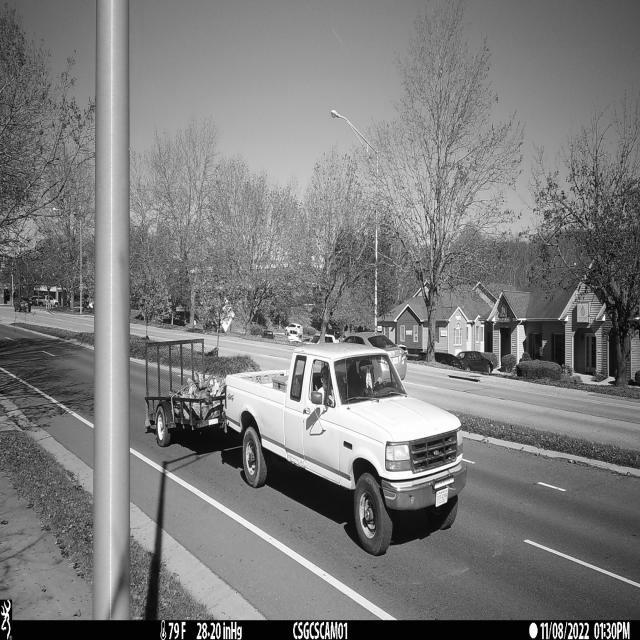Pickup: (225, 343, 468, 557)
Trailer: (143, 338, 227, 447)
